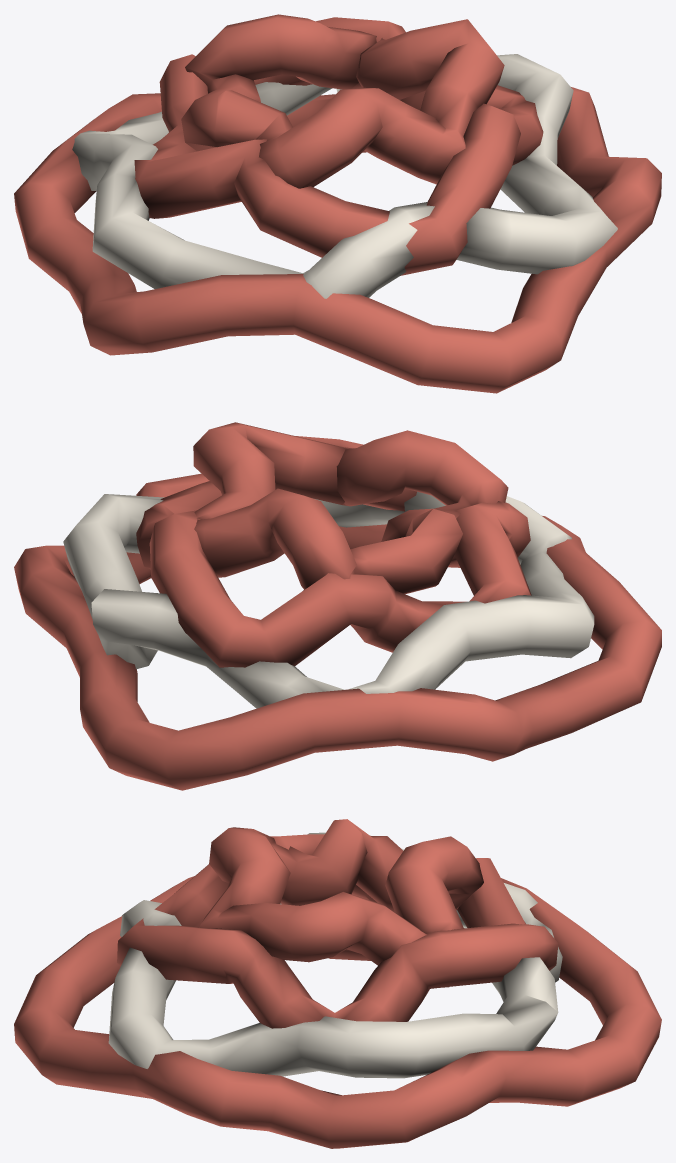
Rendered from prep_nest.glb.
The picture shows the model from 3 angles, top to bottom: view 1: azimuth 30°, elevation 25°; view 2: azimuth 150°, elevation 25°; view 3: azimuth 270°, elevation 25°; orthographic projection. The views are drawn at different scales.
Visible parts, largest first — view 1: PART; view 2: PART; view 3: PART.
Boxes of the visible parts, box(x1,y1,x2,y2) form: PART: box(14, 14, 661, 393); PART: box(14, 422, 661, 790); PART: box(14, 819, 661, 1148).
Bounding box in the file's own units: 0.1135 × 0.0429 × 0.1186.
